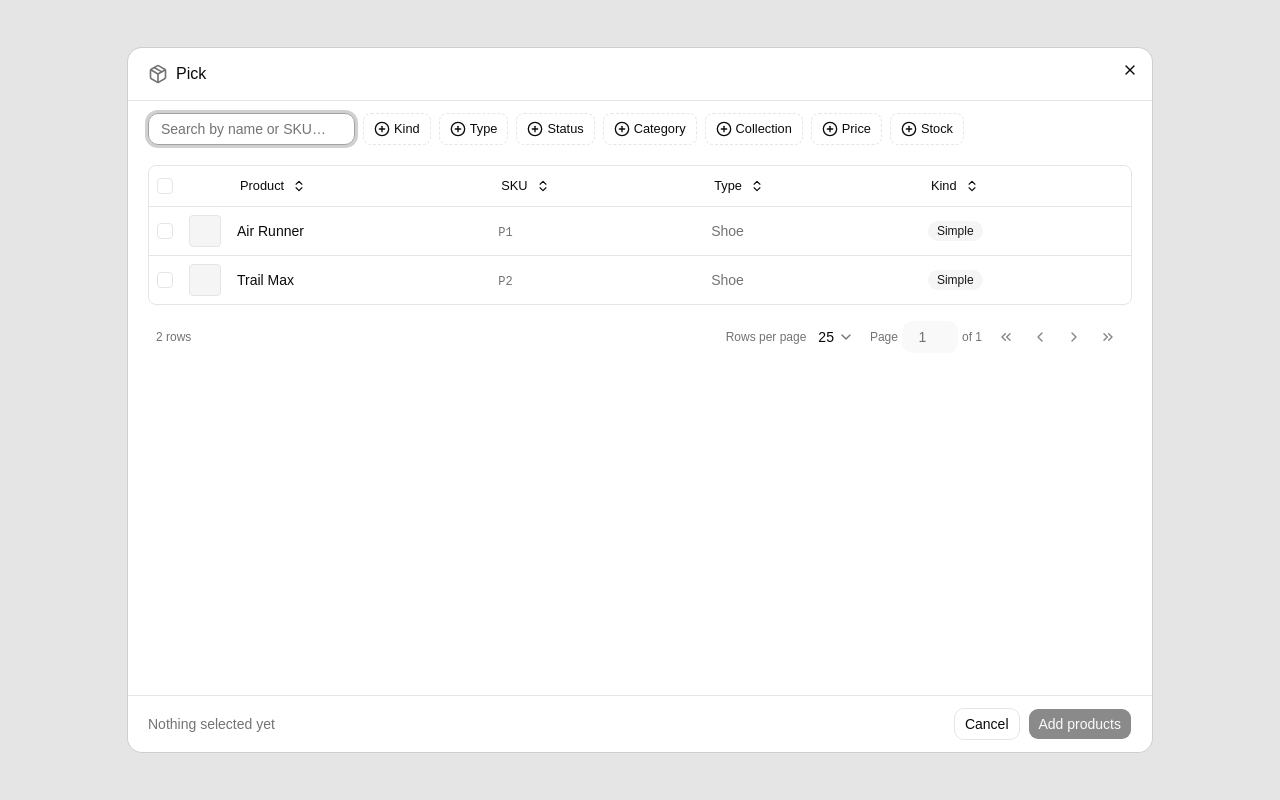
ProductPickerDialog › selects only available rows and supports row clicks, indeterminate state and clearing
What coordinates should you click on to do the following:
click the text "Air Runner"
I would click on:
 (270, 230)
Its box is x1=237 y1=220 x2=304 y2=240.
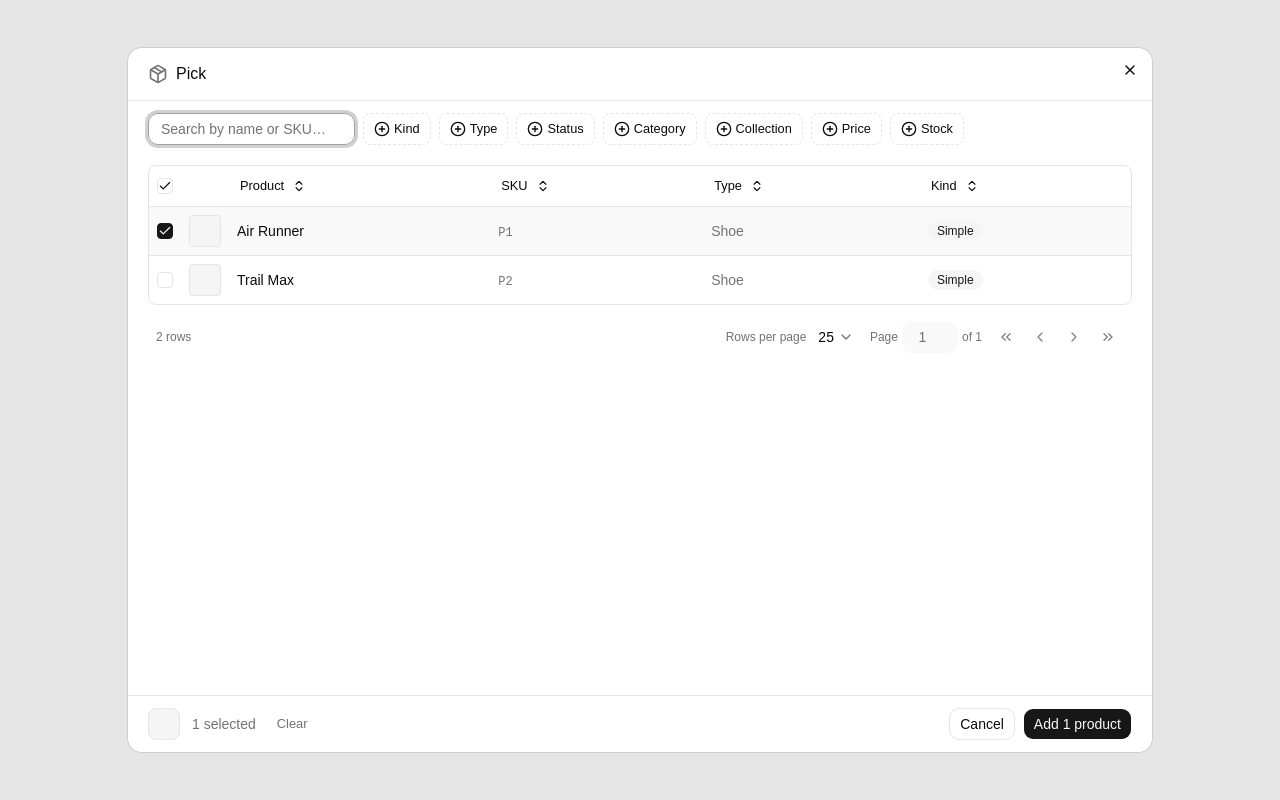
Expected: the checkbox named "Select every product on this page" has attribute data-state="indeterminate"
What coordinates should you click on to do the following:
click the checkbox named "Select every product on this page"
I would click on:
 (165, 186)
Its box is x1=157 y1=178 x2=173 y2=194.
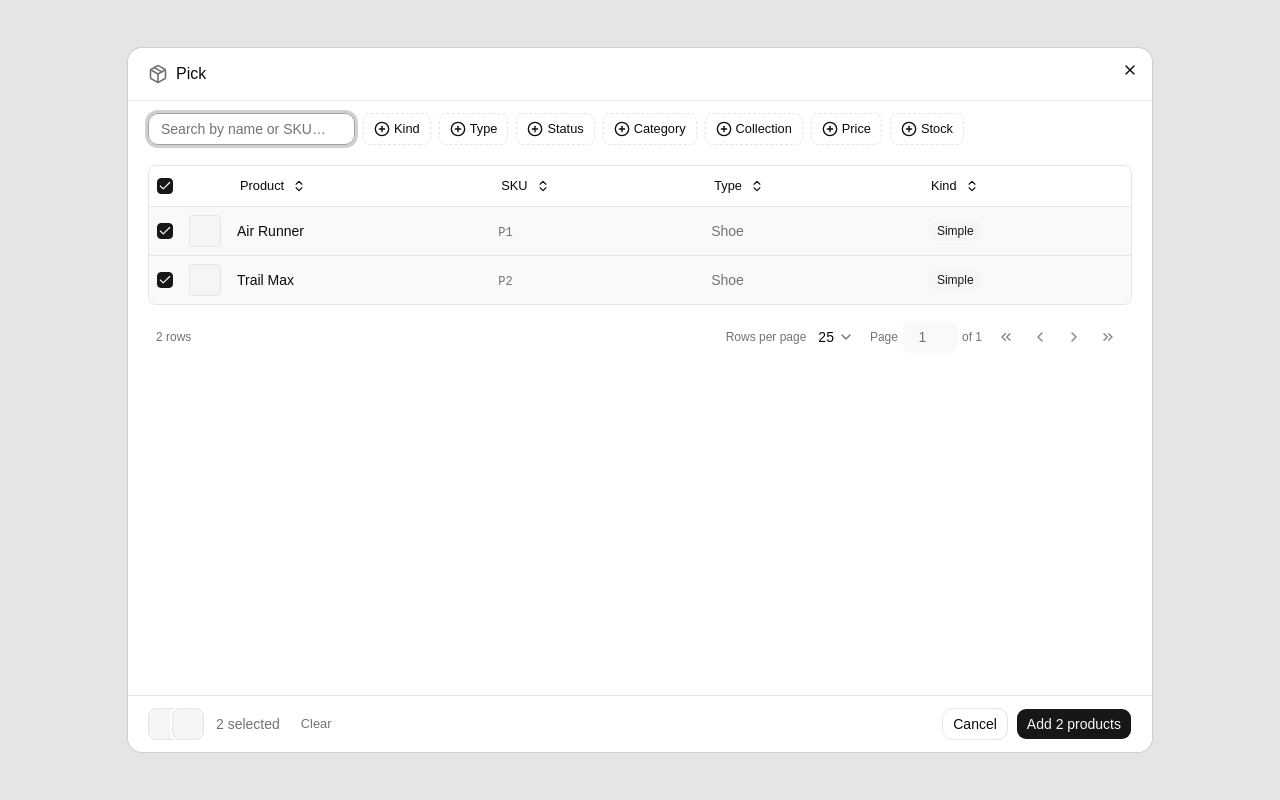
Expected: the checkbox named "Select every product on this page" is checked
Expected: the text "2 selected" is shown, x1=216 y1=714 x2=280 y2=734
What coordinates should you click on to do the following:
click the checkbox named "Select every product on this page"
I would click on:
 (165, 186)
Its box is x1=157 y1=178 x2=173 y2=194.
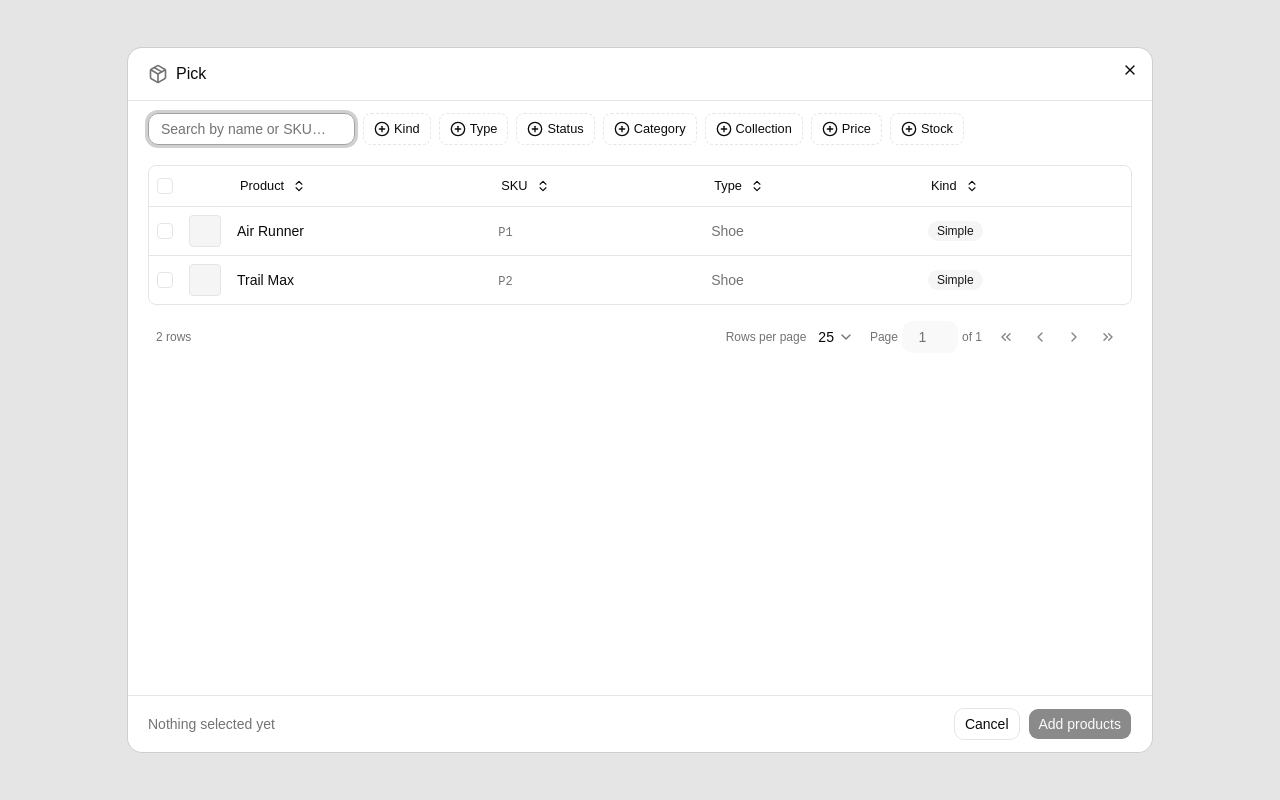
Expected: the text "Nothing selected yet" is shown, x1=148 y1=714 x2=275 y2=734
What coordinates should you click on to do the following:
click the checkbox named "Select every product on this page"
I would click on:
 (165, 186)
Its box is x1=157 y1=178 x2=173 y2=194.
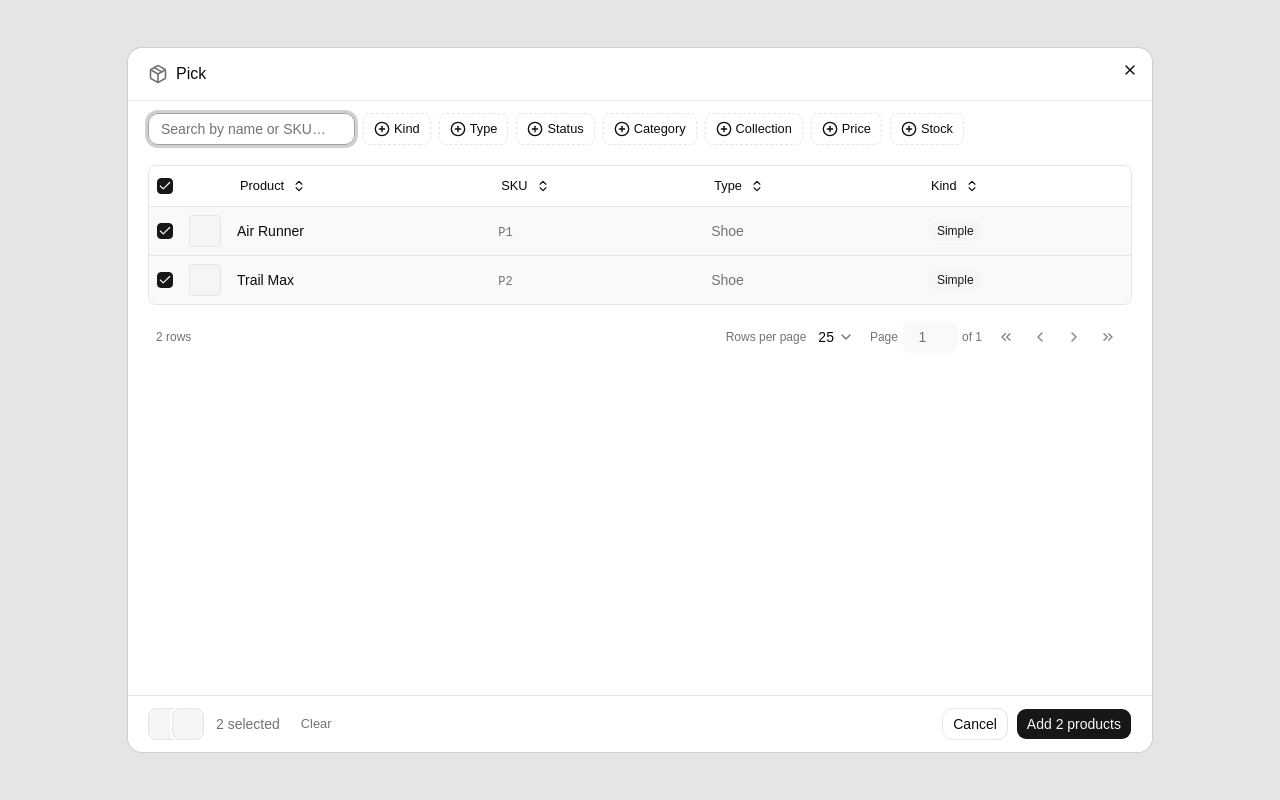
What coordinates should you click on to do the following:
click the button "Clear"
I would click on:
 (316, 724)
Its box is x1=292 y1=710 x2=340 y2=738.
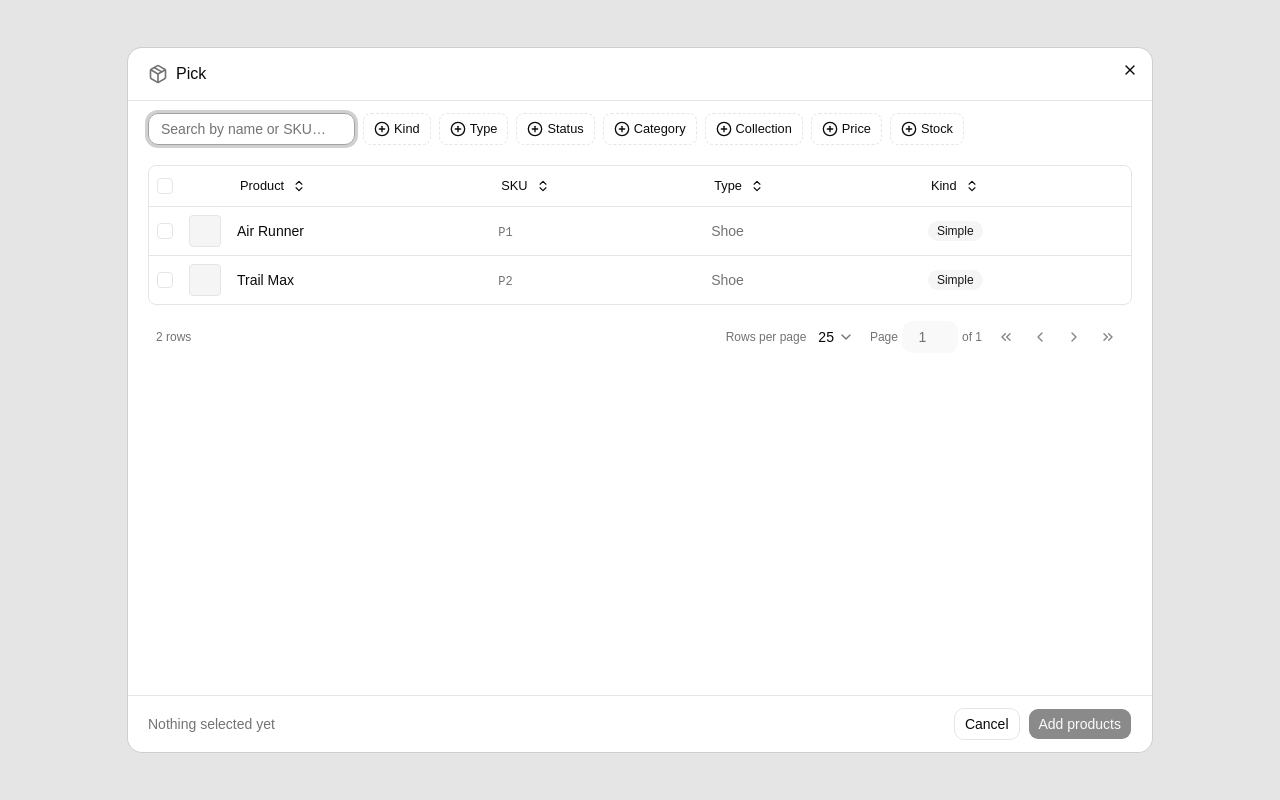
Expected: the checkbox named "Select Air Runner" is not checked, x1=157 y1=222 x2=173 y2=238
Expected: the checkbox named "Select Trail Max" is not checked, x1=157 y1=272 x2=173 y2=288
Expected: the button "Add products" is disabled, x1=1028 y1=708 x2=1132 y2=740
